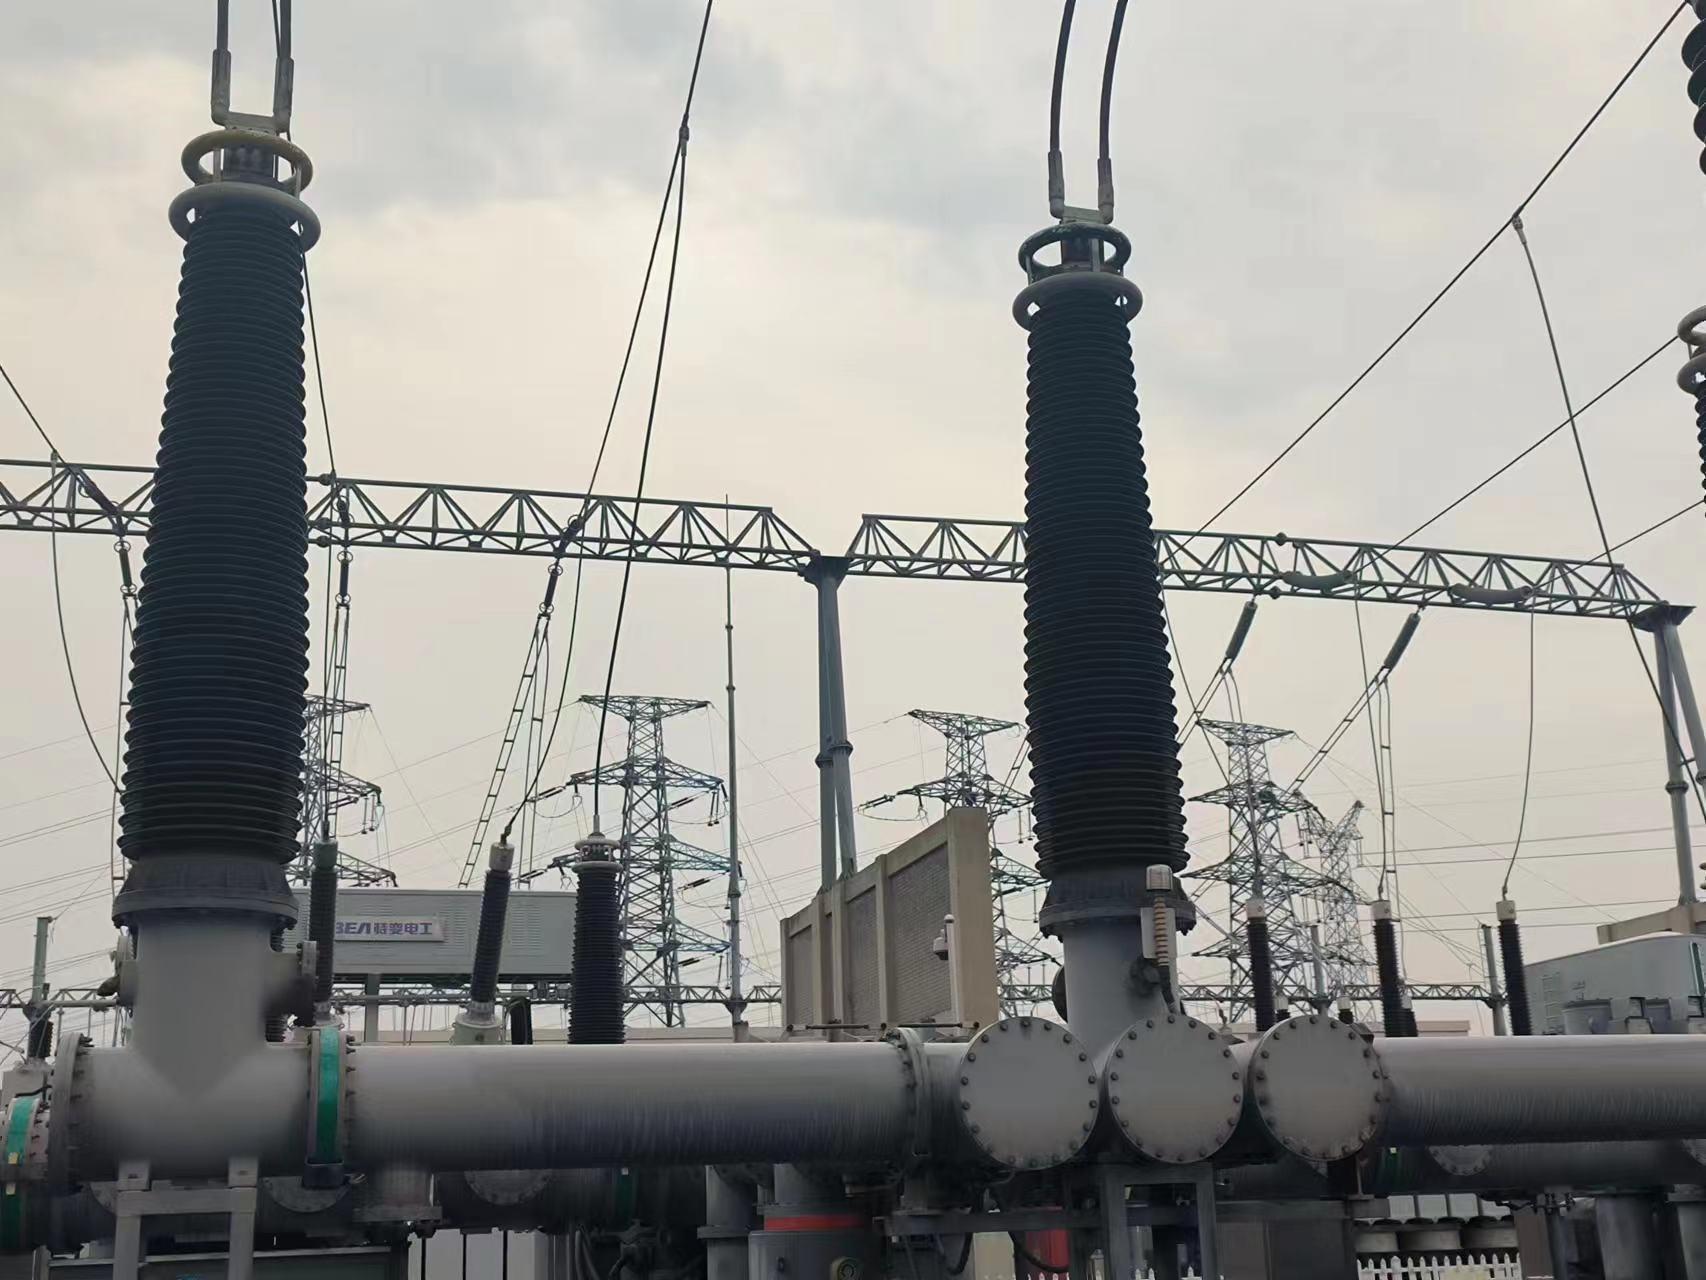Voltage transformer: (122, 122, 327, 881), (1010, 219, 1192, 873), (563, 835, 631, 1046)
